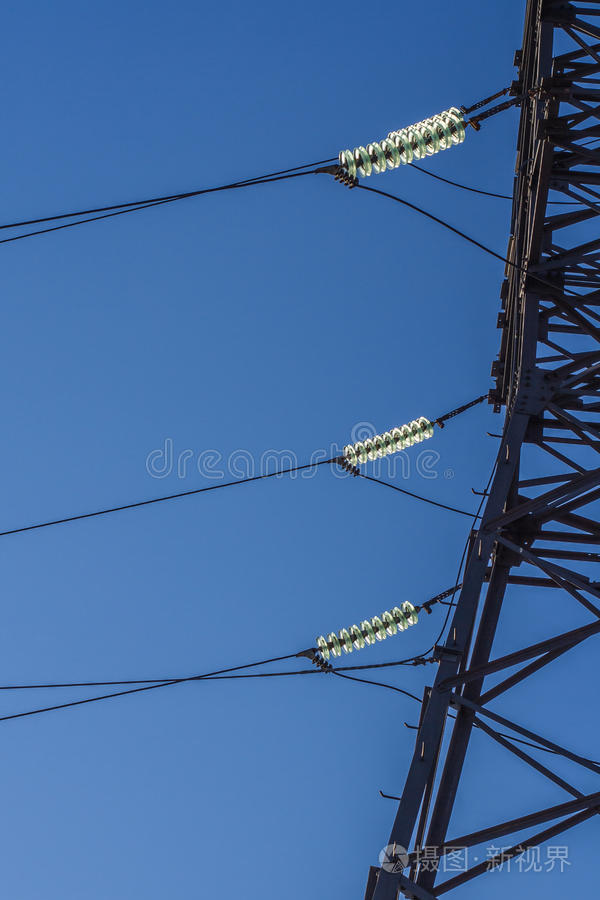insulator: (335, 108, 465, 180), (319, 600, 417, 659), (344, 417, 431, 466)
